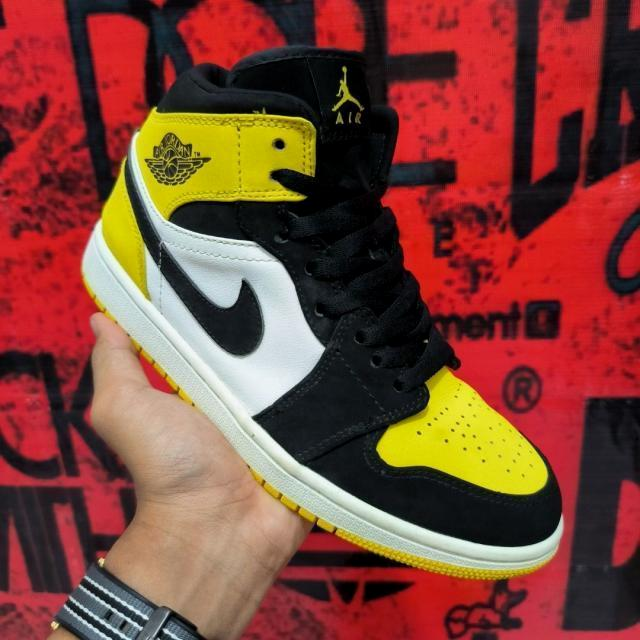nike_fake_jordan: (79, 39, 566, 582)
